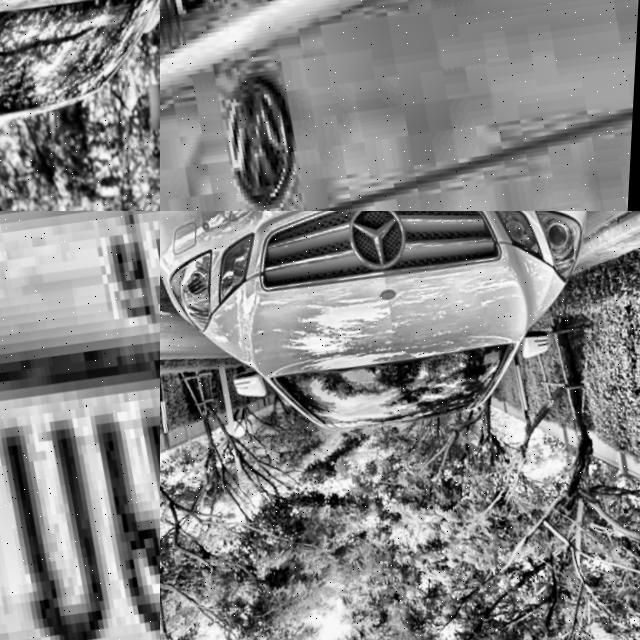license-plate: (0, 211, 160, 640)
